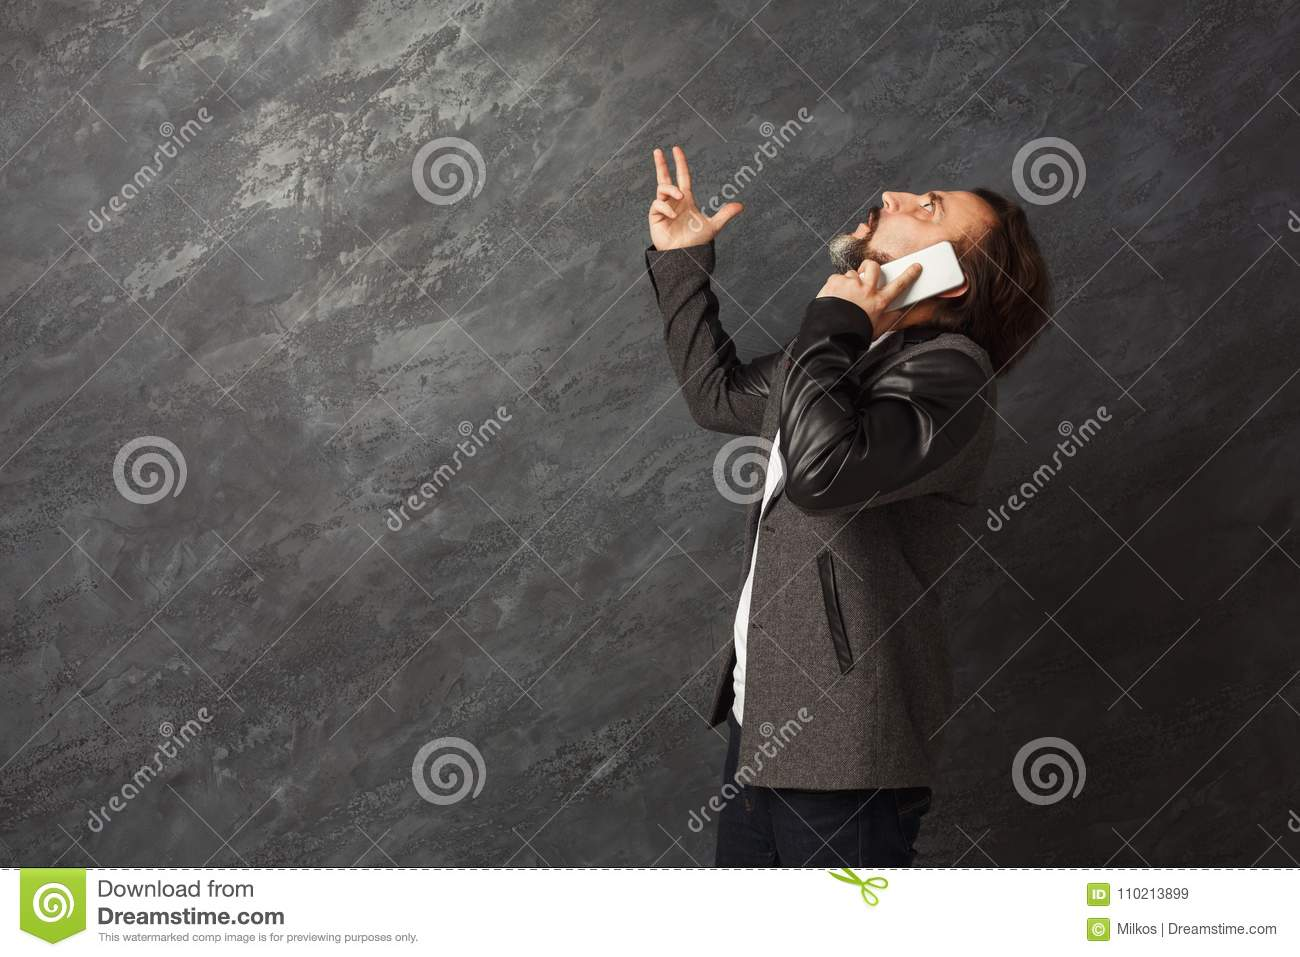phone: (858, 239, 967, 321)
talk: (816, 183, 969, 330)
